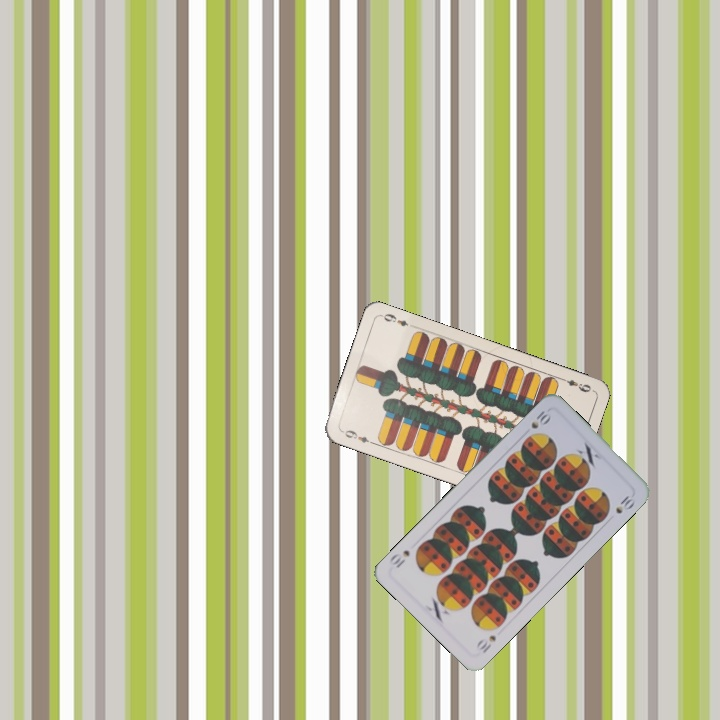E9: (556, 373, 594, 395), (337, 426, 376, 447)
S10: (472, 631, 499, 656), (527, 406, 552, 431)
